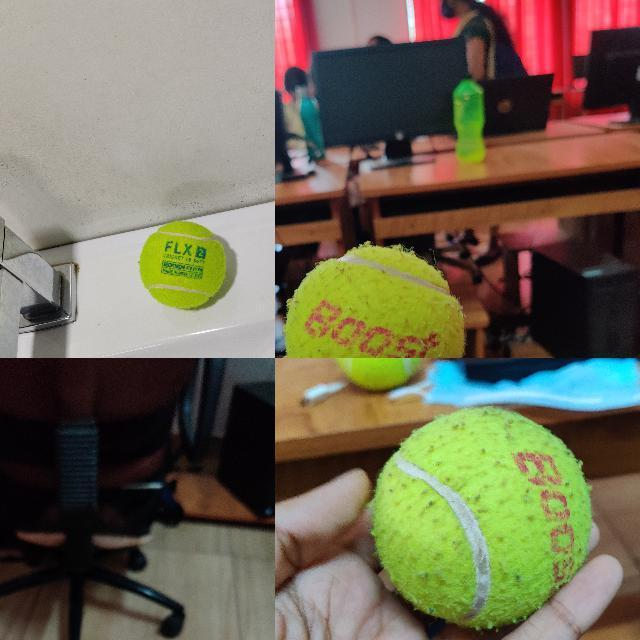tennis-ball: (373, 408, 590, 628), (284, 244, 465, 357), (139, 221, 227, 310), (332, 358, 424, 389)
